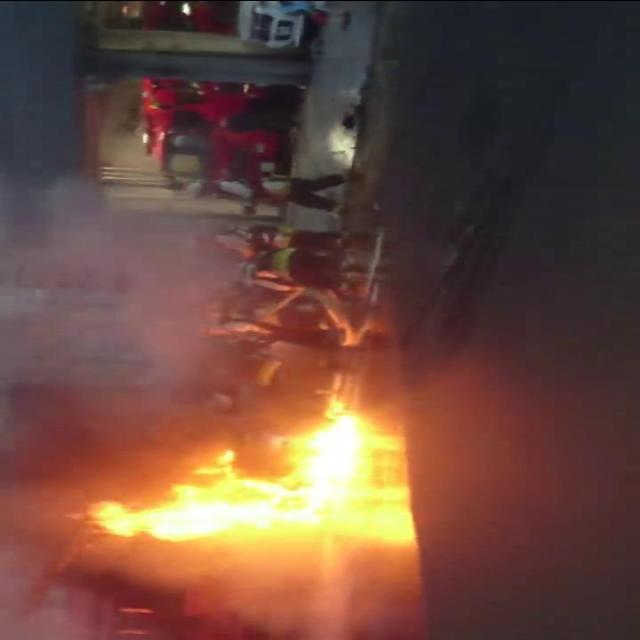Fire: (87, 401, 375, 553)
